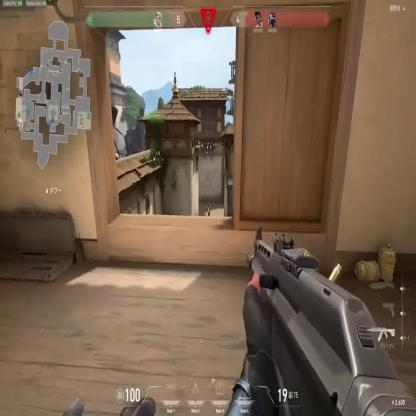enemy: (207, 203, 210, 216)
enemy_head: (208, 203, 210, 206)
